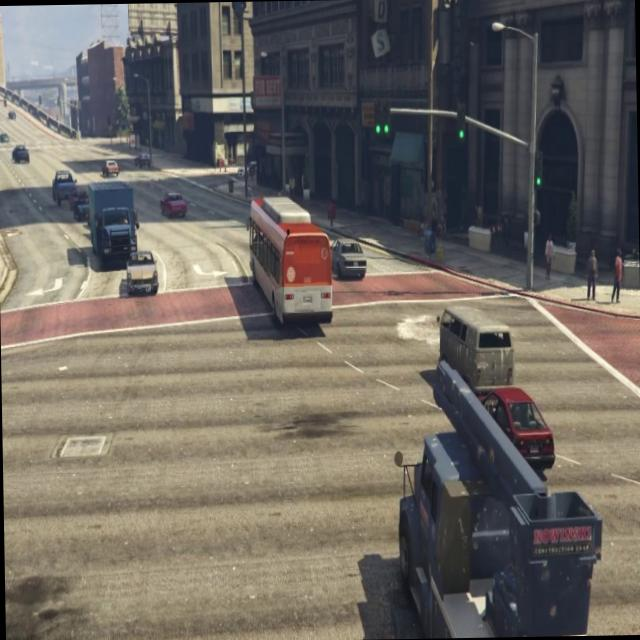Green-Signal: (368, 89, 398, 148), (454, 98, 468, 146), (532, 145, 544, 195)
